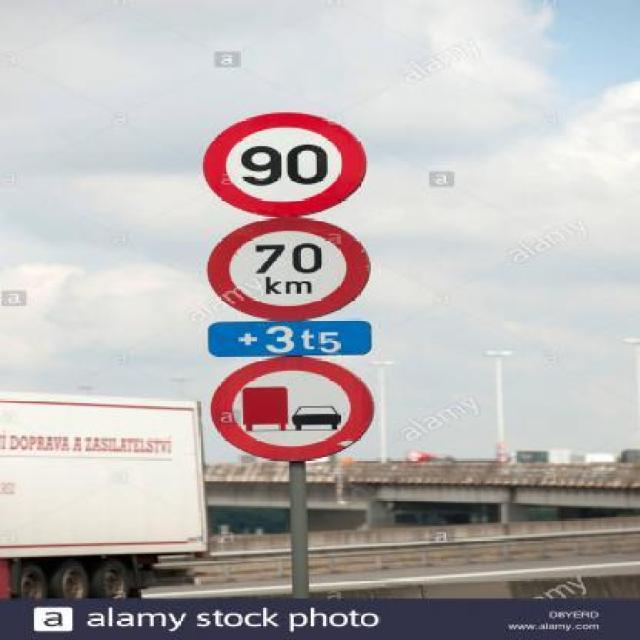forb_speed_over_70: (205, 221, 373, 321)
